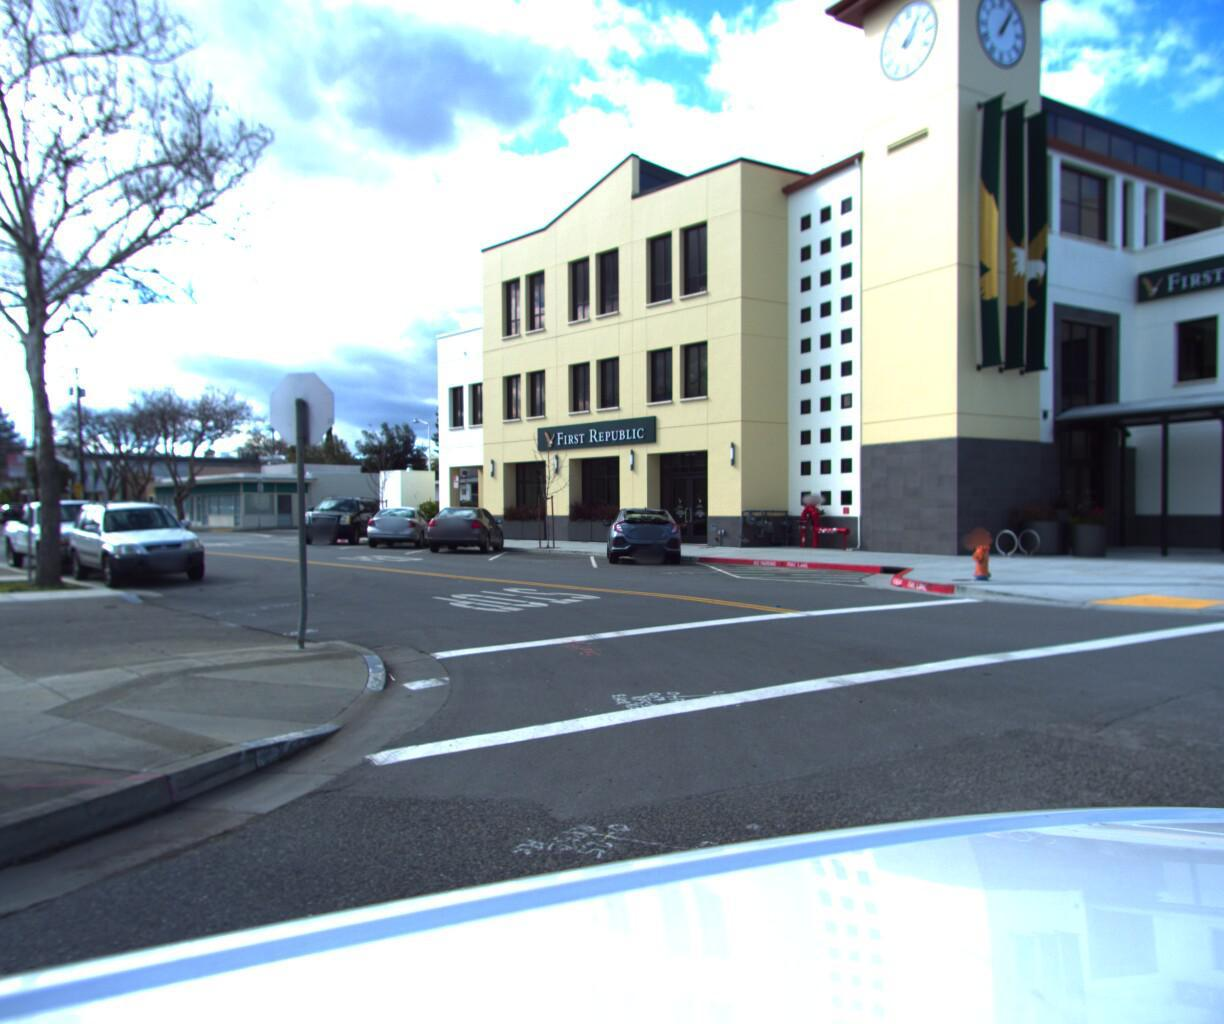car: (56, 497, 217, 591), (0, 495, 139, 577), (293, 492, 391, 544), (606, 506, 686, 565), (416, 504, 508, 555), (355, 502, 444, 548), (0, 501, 56, 526)
